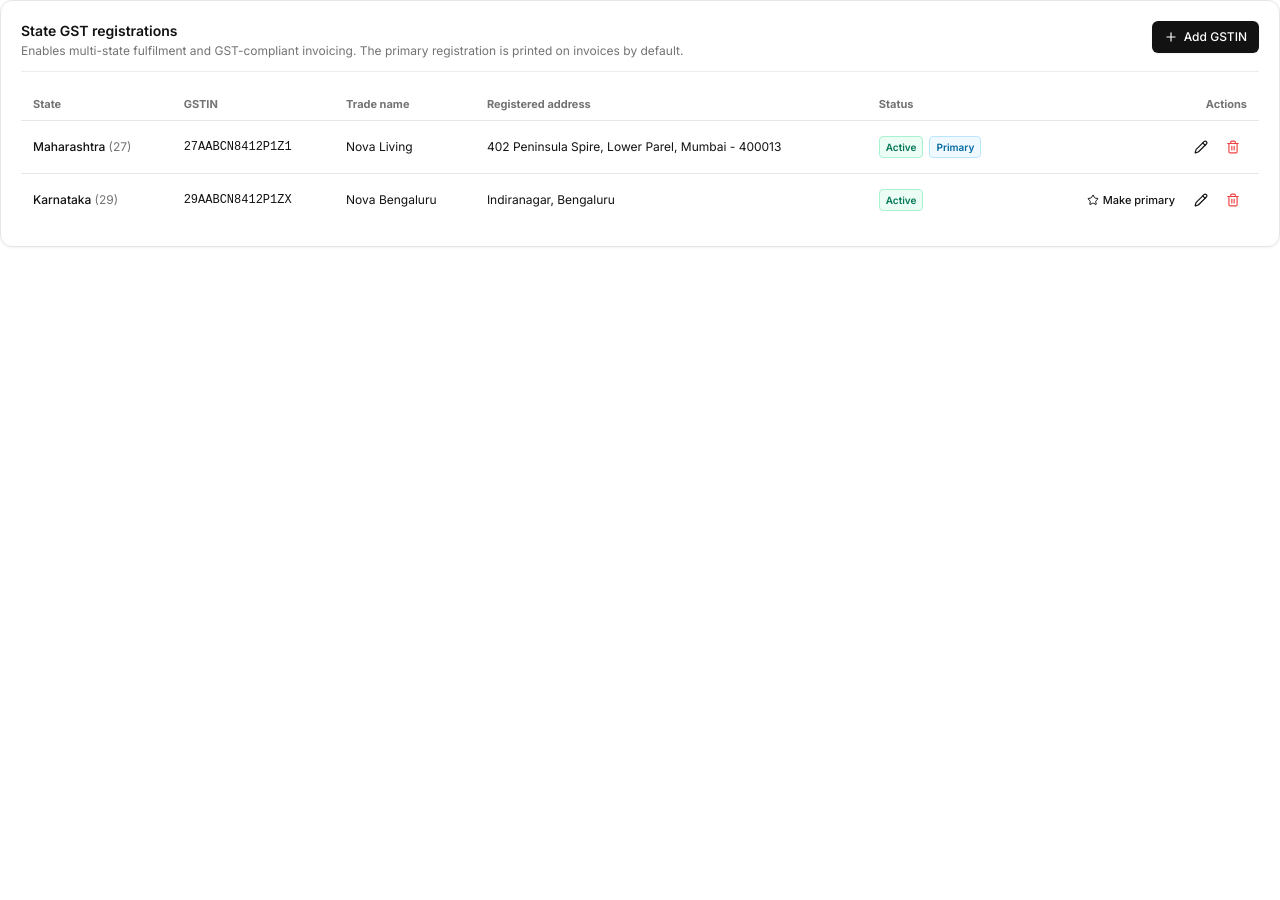
Test: GSTIN registrations › shows why the primary registration cannot be deleted
Click the button named "Delete 27AABCN8412P1Z1": point(1233, 147) top-left (1219, 133), bottom-right (1247, 161)
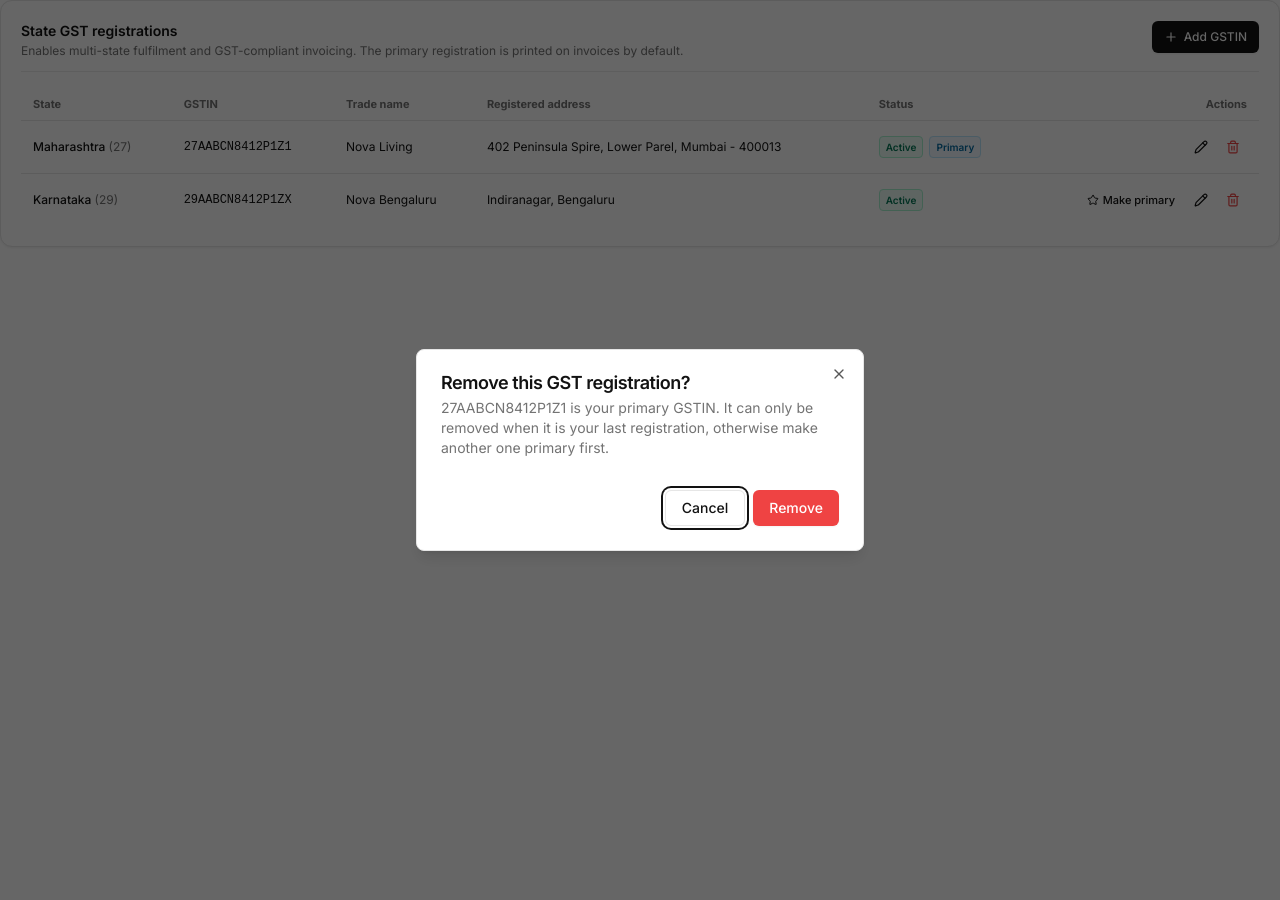
Click the button "Remove": point(796, 508) top-left (753, 490), bottom-right (839, 526)
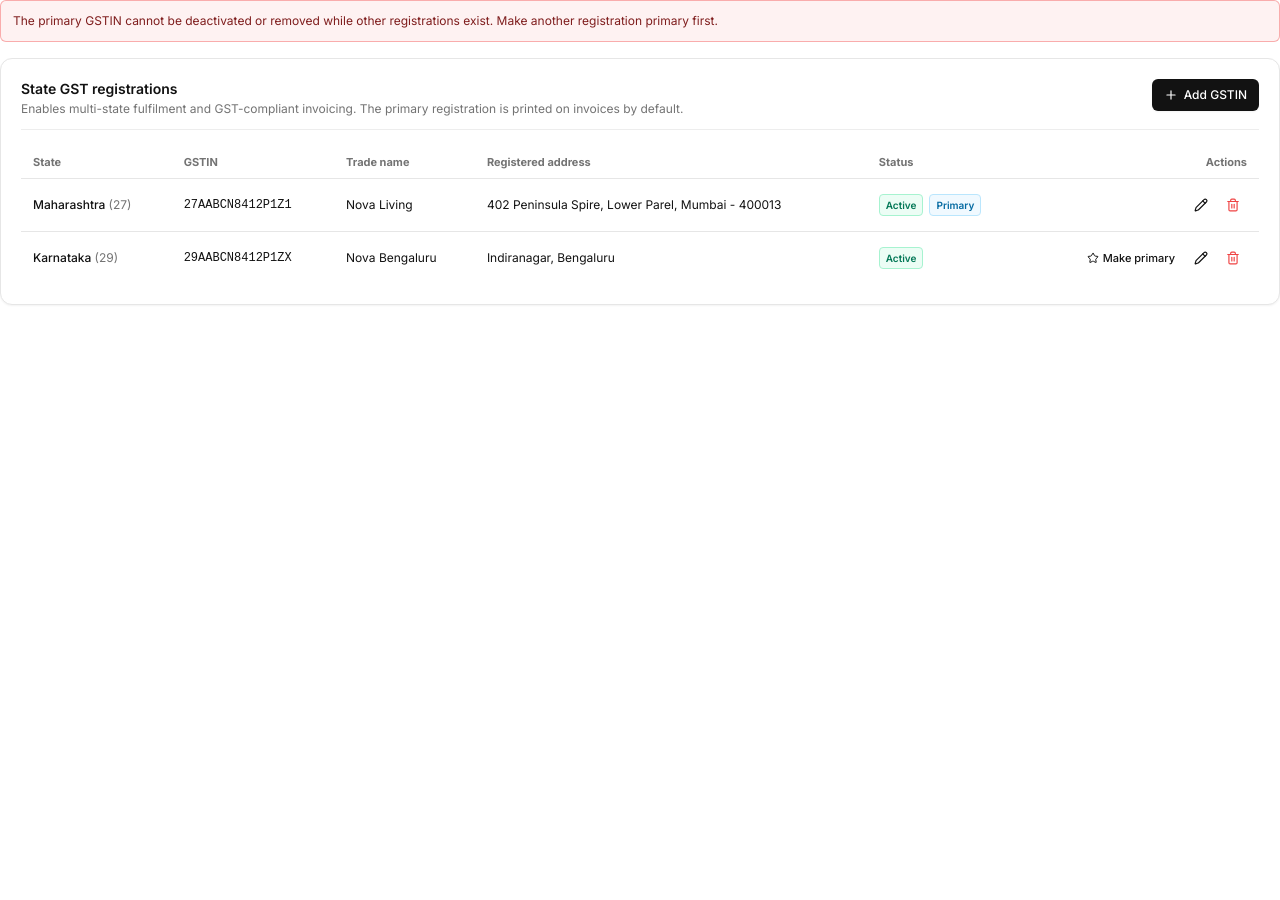
Result: the text "cannot be deactivated or removed while other registrations exist" is shown at top-left (13, 13), bottom-right (718, 28)
